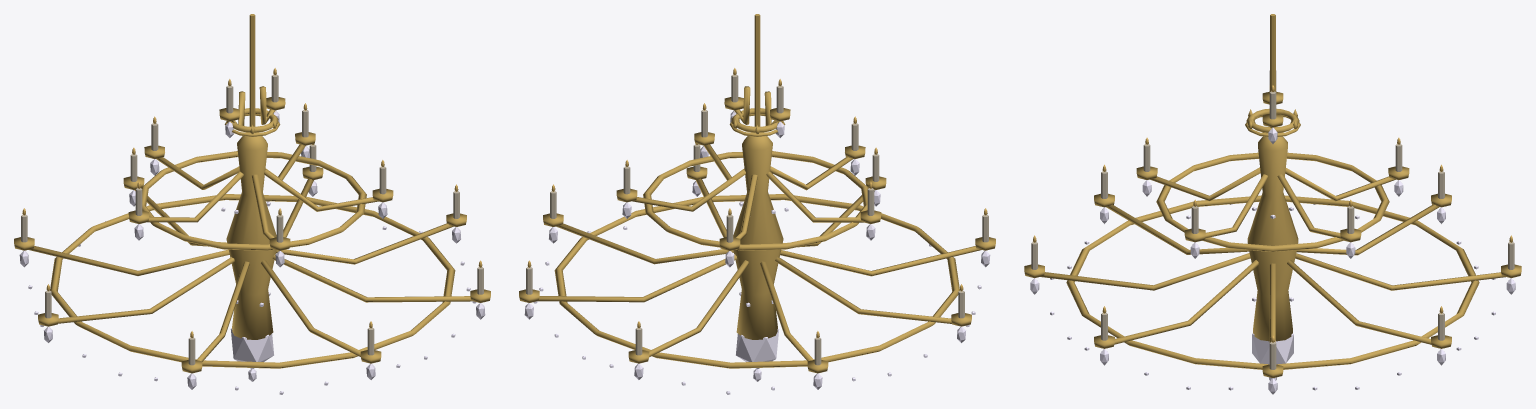
The model's file is chandelier_crystal.glb.
3 views of the same model, side by side, from view 1: azimuth 30°, elevation 25°; view 2: azimuth 150°, elevation 25°; view 3: azimuth 270°, elevation 25° (orthographic).
Parts seen in each view (by area): view 1: chandelier_crystal; view 2: chandelier_crystal; view 3: chandelier_crystal.
Boxes of the visible parts, x1,y1,x2,y2 form: chandelier_crystal: [14, 14, 490, 394]; chandelier_crystal: [519, 14, 995, 394]; chandelier_crystal: [1024, 14, 1521, 394].
Size of what is drawn, in the model's own units: 2.2 by 1.8 by 2.2.
